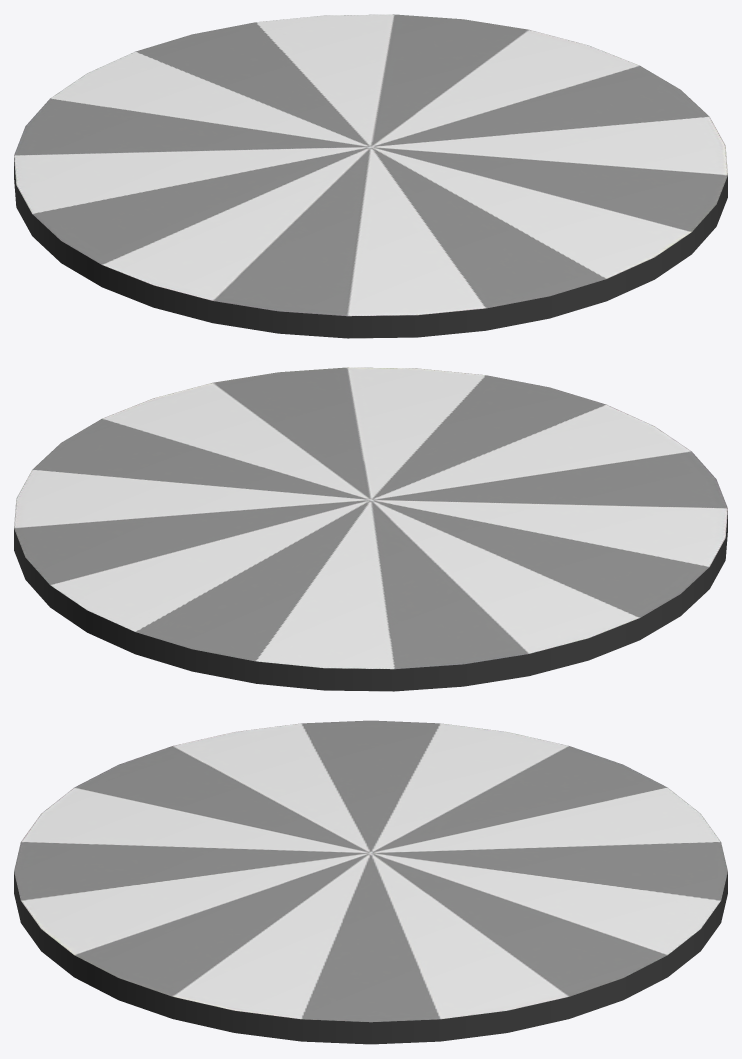
File: platform.circle.fbx
3 renders of one model, top to bottom at view 1: azimuth 30°, elevation 25°; view 2: azimuth 150°, elevation 25°; view 3: azimuth 270°, elevation 25°, orthographic.
Visible parts, largest first — view 1: circle; view 2: circle; view 3: circle.
Part boxes in pixels (bbox=[...]): circle: bbox=[14, 14, 727, 338]; circle: bbox=[14, 367, 727, 691]; circle: bbox=[14, 720, 727, 1044].
Bounding box in the file's own units: 1321 × 82.71 × 1321.
